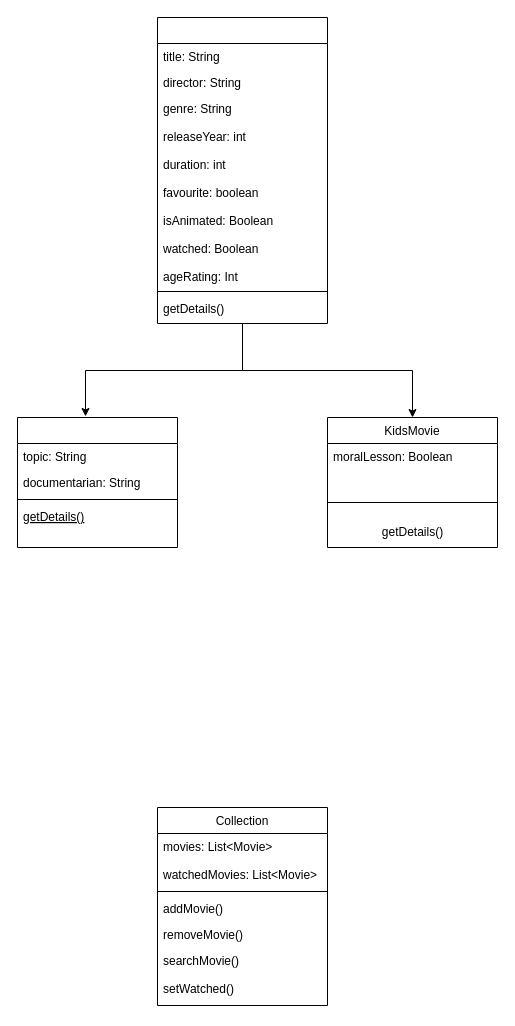
The diagram is 515 pixels wide and 1026 high, and some of its shapes have lost their labels. Here are the shapes that lost their labels. From the top down, the box of each, then its label:
(156, 16, 328, 324): Movie
(16, 416, 178, 548): Documentary
